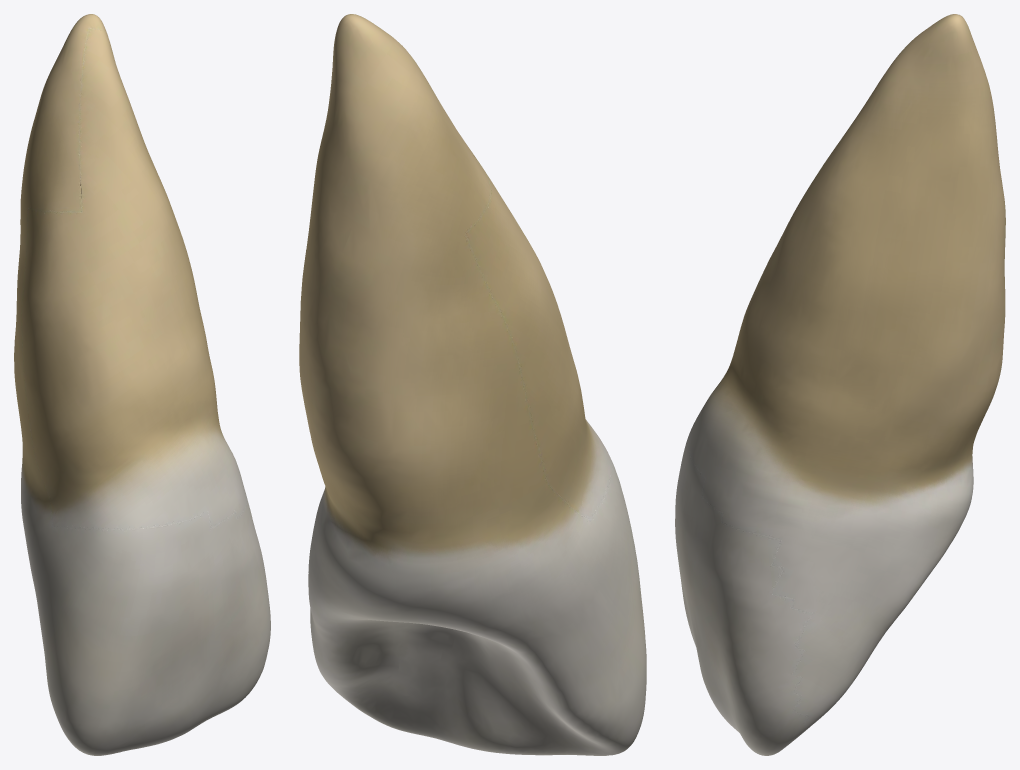
File: maxillary_left_central_incisor.glb
The picture shows the model from 3 angles, left to right: view 1: azimuth 30°, elevation 25°; view 2: azimuth 150°, elevation 25°; view 3: azimuth 270°, elevation 25°; orthographic projection. The views are drawn at different scales.
Visible parts, largest first — view 1: Object_2; view 2: Object_2; view 3: Object_2.
Boxes of the visible parts, x1,y1,x2,y2 form: Object_2: (14, 14, 270, 755); Object_2: (299, 14, 646, 755); Object_2: (675, 14, 1005, 755).
Size of the model in its own units: 0.32 by 0.8746 by 0.3642.
Materials: 1 (1 with a texture image).
